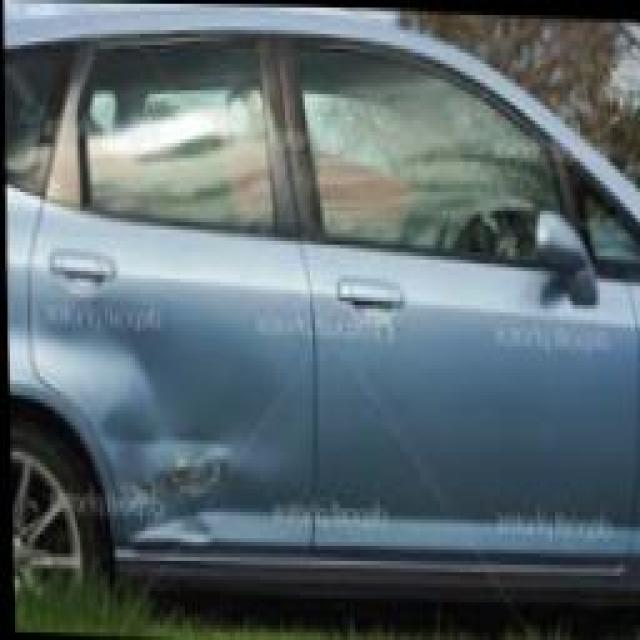Door: (30, 323, 237, 573)
